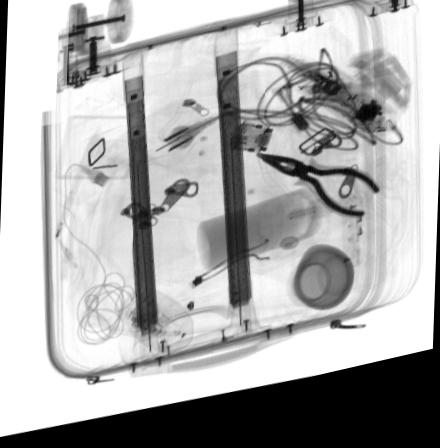Pliers: (253, 164, 377, 233)
